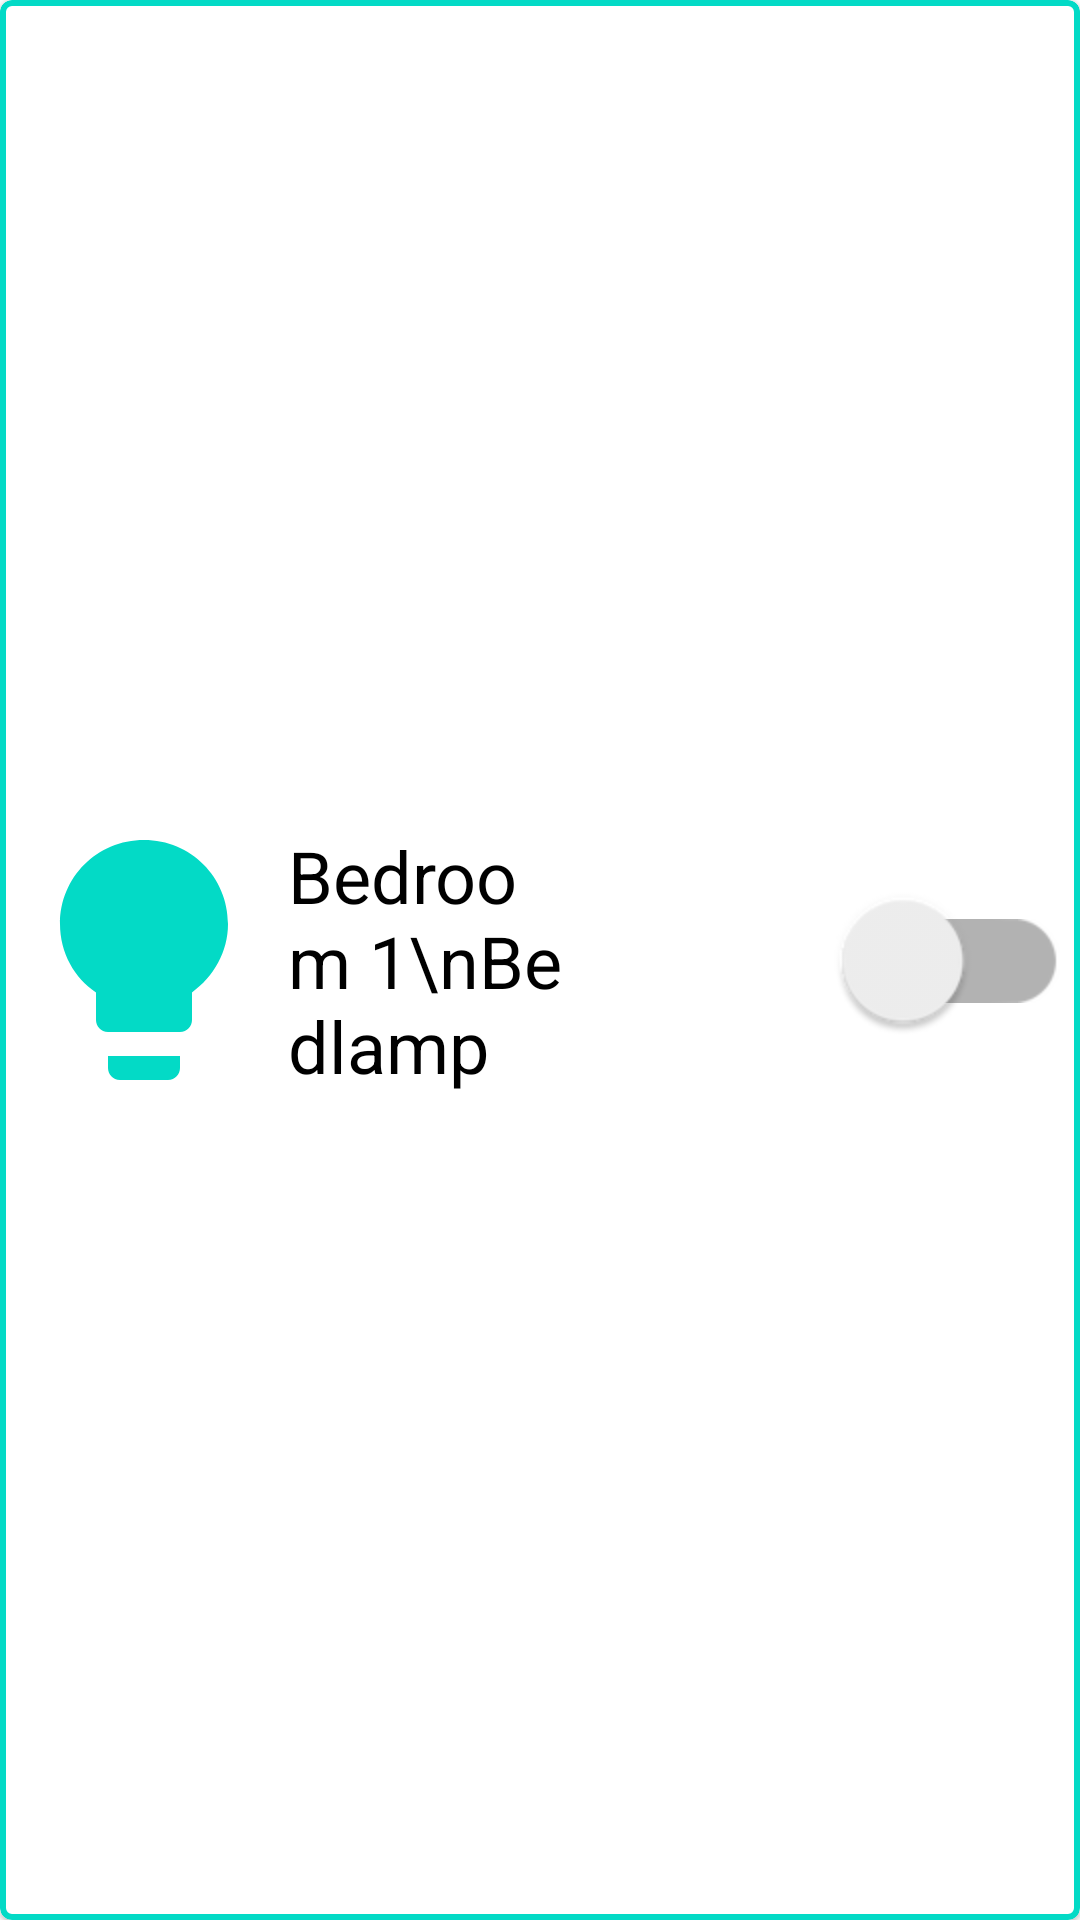

Icons on this 1080*1920 Android screen, each with the point to tap as (x,y):
lightbulb: (143,960)
